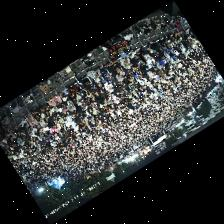person: (72, 68, 91, 87), (139, 48, 155, 64), (137, 59, 152, 75), (118, 50, 130, 67), (143, 43, 157, 57), (106, 60, 120, 73), (111, 65, 123, 80), (87, 68, 100, 81), (120, 63, 134, 75), (128, 49, 140, 63), (48, 95, 61, 107), (77, 85, 88, 99), (76, 91, 85, 108), (133, 64, 143, 79), (18, 130, 29, 142), (102, 79, 113, 91), (151, 41, 163, 52), (88, 83, 98, 96), (67, 84, 77, 97), (157, 55, 168, 66), (158, 38, 170, 48), (65, 115, 73, 130), (39, 117, 49, 129), (120, 55, 130, 67), (29, 117, 38, 130), (116, 83, 127, 93), (49, 113, 59, 124), (156, 58, 165, 70), (163, 48, 172, 60), (13, 124, 22, 135), (31, 109, 40, 120), (67, 106, 76, 117), (163, 46, 174, 55), (21, 116, 28, 130), (49, 124, 57, 136), (42, 103, 50, 115), (100, 65, 107, 78), (92, 78, 101, 88), (8, 127, 17, 137), (112, 77, 123, 85), (59, 89, 67, 100), (67, 93, 76, 102), (100, 101, 108, 111), (49, 105, 57, 115), (157, 67, 165, 77), (180, 43, 187, 54), (60, 100, 67, 111), (25, 112, 33, 121), (67, 100, 74, 110), (107, 68, 112, 82), (88, 91, 94, 102), (102, 40, 111, 47), (57, 117, 63, 127), (5, 133, 13, 140), (41, 113, 48, 121), (180, 29, 187, 37), (58, 107, 65, 114), (175, 31, 181, 39), (37, 122, 42, 131)
